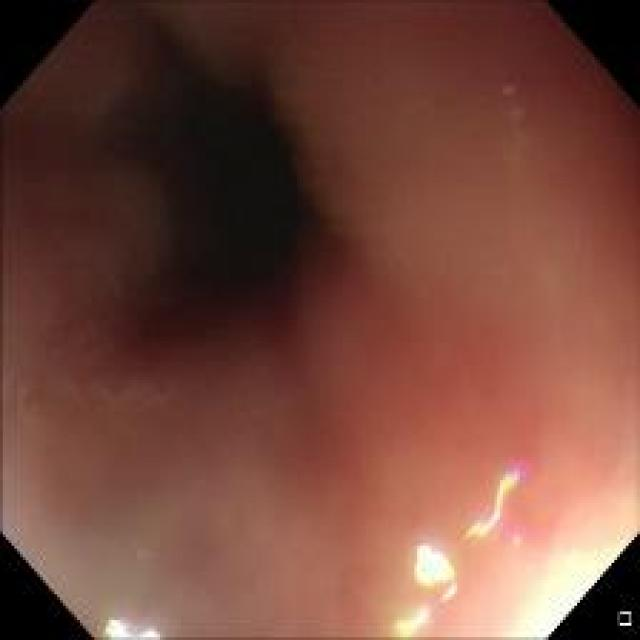color misalignment: (401, 532, 468, 604), (468, 462, 525, 544), (101, 609, 165, 639), (388, 604, 432, 632)
contrast: (101, 42, 318, 338)
saturation: (499, 535, 624, 621)
specularity: (408, 544, 464, 599), (95, 608, 168, 638)
